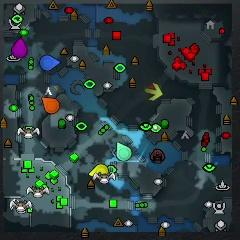p1: (40, 55, 60, 71)
p2: (116, 141, 132, 162)
p3: (12, 38, 27, 58)
p4: (90, 163, 110, 177)
p5: (42, 97, 59, 114)
x2: (146, 83, 163, 101)
